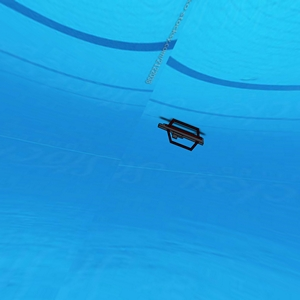submarine: (151, 116, 206, 151)
